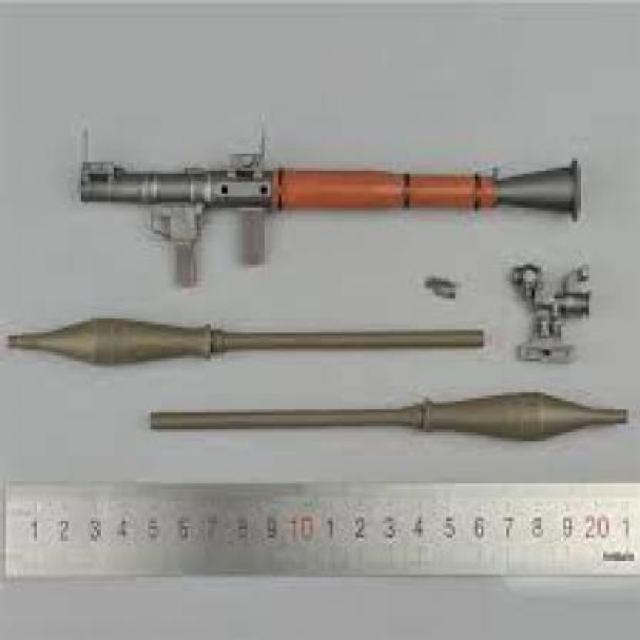weapon: (75, 95, 596, 307), (0, 301, 522, 385), (138, 391, 633, 467)
